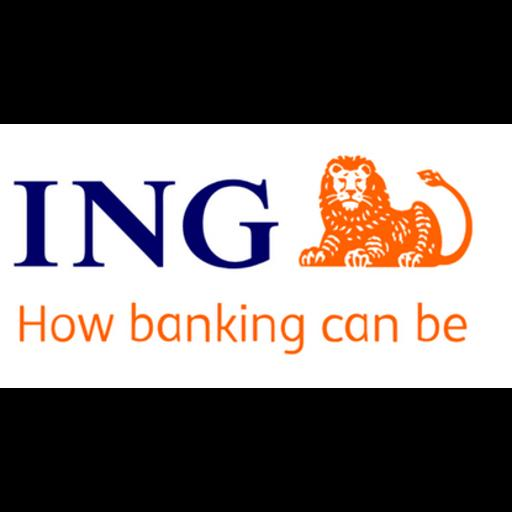ING: (0, 124, 512, 388)
